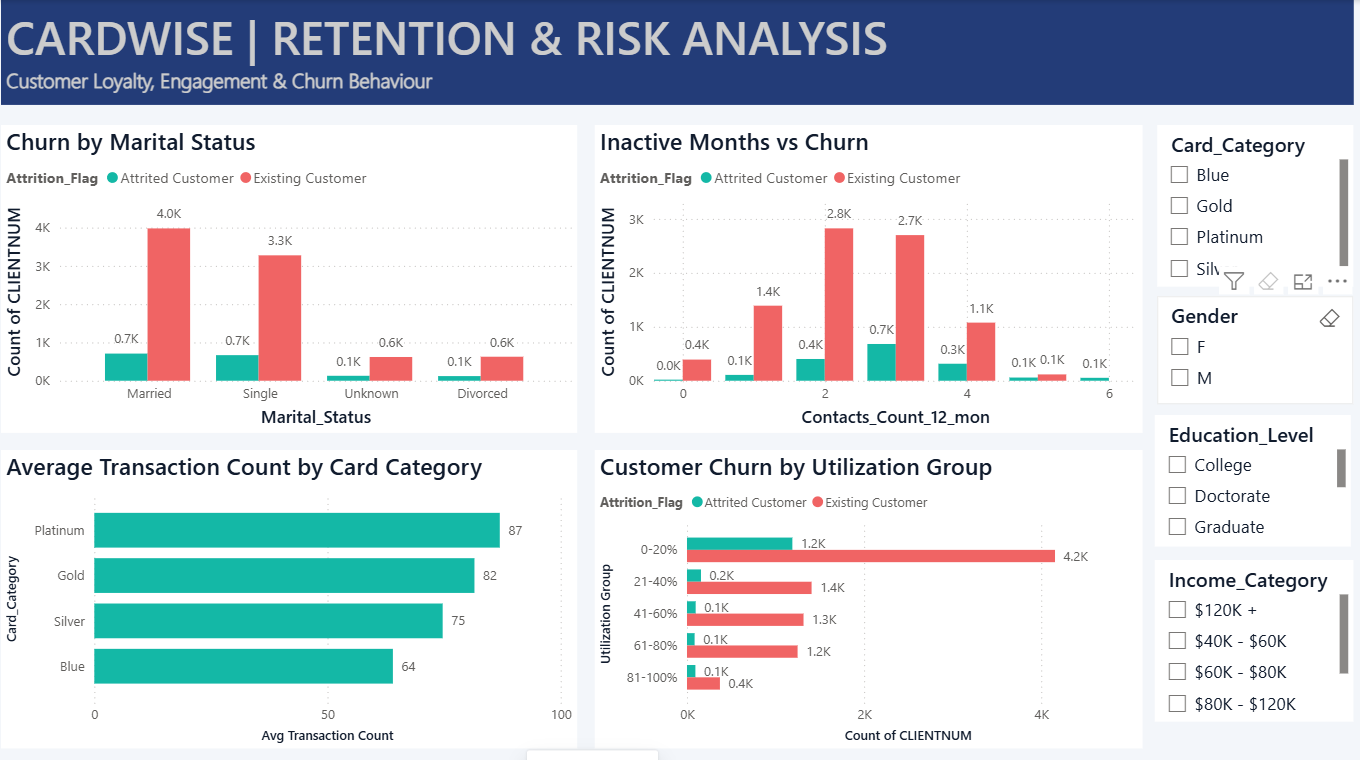

Layout of this report page (visuals, bound fields, positions):
{"tool":"powerbi","page":{"name":"Business Insights","canvas":[1280,720],"ordinal":2},"visuals":[{"type":"clusteredColumnChart","title":"Churn by Marital Status","fields":{"Category":["credit_card_churn bankchurners.Marital_Status"],"Y":["CountNonNull(credit_card_churn bankchurners.CLIENTNUM)"],"Series":["credit_card_churn bankchurners.Attrition_Flag"]},"box":[9.9,116,535.8,286.4],"z":0},{"type":"clusteredColumnChart","title":"Inactive Months vs Churn","fields":{"Category":["credit_card_churn bankchurners.Contacts_Count_12_mon"],"Y":["CountNonNull(credit_card_churn bankchurners.CLIENTNUM)"],"Series":["credit_card_churn bankchurners.Attrition_Flag"]},"box":[561.7,116,509.9,286.4],"z":1000},{"type":"slicer","fields":{"Values":["credit_card_churn bankchurners.Card_Category"]},"box":[1085.2,116,182.7,150.6],"z":2000},{"type":"slicer","fields":{"Values":["credit_card_churn bankchurners.Gender"]},"box":[1085.2,275.3,182.7,100],"z":3000},{"type":"slicer","fields":{"Values":["credit_card_churn bankchurners.Income_Category"]},"box":[1082.7,521,185.2,150.6],"z":4000},{"type":"slicer","fields":{"Values":["credit_card_churn bankchurners.Education_Level"]},"box":[1082.7,386.4,182.7,122.2],"z":5000},{"type":"clusteredBarChart","title":"Average Transaction Count by Card Category","fields":{"Category":["credit_card_churn bankchurners.Card_Category"],"Y":["credit_card_churn bankchurners.Avg Transaction Count"]},"box":[9.9,418.5,535.8,277.8],"z":6000},{"type":"clusteredBarChart","title":"Customer Churn by Utilization Group","fields":{"Category":["credit_card_churn bankchurners.Utilization Group"],"Y":["CountNonNull(credit_card_churn bankchurners.CLIENTNUM)"],"Series":["credit_card_churn bankchurners.Attrition_Flag"]},"box":[561.7,418.5,509.9,277.8],"z":7000},{"type":"textbox","box":[9.9,0,1258,97.5],"z":8000}]}

Visuals, with their boxes on the page's 1280x720 design canvas (x1, y1, x2, y2). These are canvas units, not pixel positions in the 1360x760 screenshot, which may show the page scaled, cropped or inside an application window:
"Churn by Marital Status" clusteredColumnChart: 10,116,546,402
"Inactive Months vs Churn" clusteredColumnChart: 562,116,1072,402
slicer - credit_card_churn bankchurners.Card_Category: 1085,116,1268,267
slicer - credit_card_churn bankchurners.Gender: 1085,275,1268,375
slicer - credit_card_churn bankchurners.Income_Category: 1083,521,1268,672
slicer - credit_card_churn bankchurners.Education_Level: 1083,386,1265,509
"Average Transaction Count by Card Category" clusteredBarChart: 10,418,546,696
"Customer Churn by Utilization Group" clusteredBarChart: 562,418,1072,696
textbox: 10,0,1268,98
